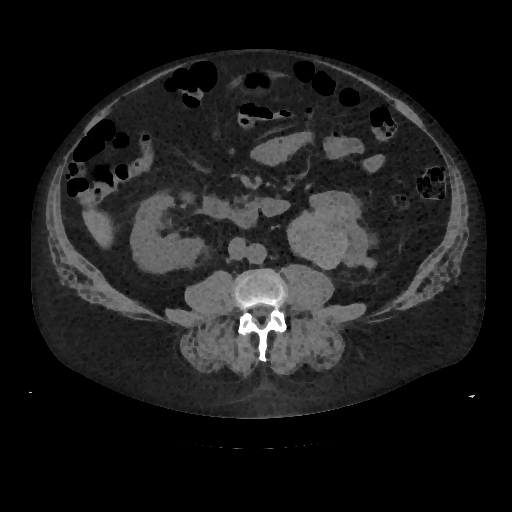Lesion: (284, 213, 349, 270)
